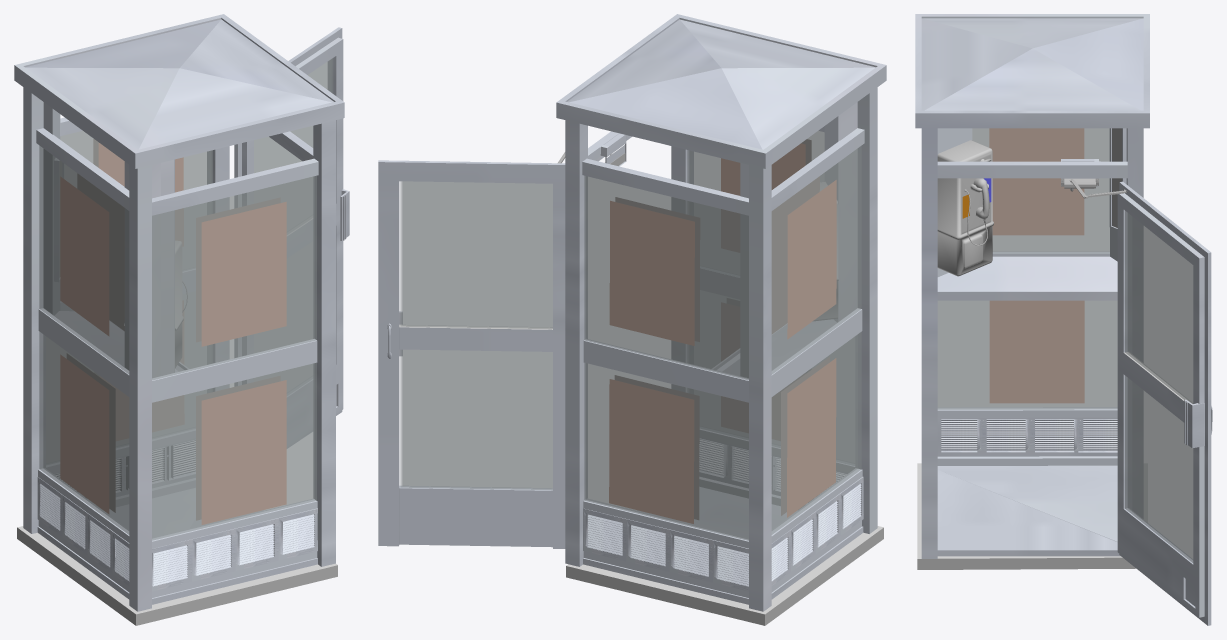
Rendered from Cabina.fbx.
3 renders of one model, left to right at view 1: azimuth 30°, elevation 25°; view 2: azimuth 150°, elevation 25°; view 3: azimuth 270°, elevation 25°, orthographic. The views are drawn at different scales.
Visible parts, largest first — view 1: _G-Object.021 (Loose Mesh), G-Object.007, G-Object.073, G-Object.074, _G-Object.015 (Loose Mesh), G-Object.002, G-Object.019, _G-Object.001 (Loose Mesh), _G-Object.077 (Loose Mesh), G-Object.080, G-Object.083, G-Object.081 (+19 smaller); view 2: _G-Object.021 (Loose Mesh), G-Object.007, G-Object.002, _G-Object.015 (Loose Mesh), G-Object.019, G-Object.074, G-Object.073, _G-Object.001 (Loose Mesh), G-Object.079, _G-Object.077 (Loose Mesh), G-Object.022, G-Object.083 (+12 smaller); view 3: _G-Object.021 (Loose Mesh), G-Object.002, _G-Object.015 (Loose Mesh), G-Object.007, G-Object.074, _G-Object.078 (Loose Mesh), G-Object.082, _G-Object.001 (Loose Mesh), G-Object.024, G-Object.069, G-Object.070, G-Object.035 (+6 smaller).
Part boxes in pixels (x1=…): _G-Object.021 (Loose Mesh): x1=14, y1=14, x2=344, y2=611; G-Object.007: x1=60, y1=139, x2=286, y2=524; G-Object.073: x1=152, y1=175, x2=316, y2=540; G-Object.074: x1=39, y1=145, x2=129, y2=534; _G-Object.015 (Loose Mesh): x1=234, y1=27, x2=343, y2=448; G-Object.002: x1=254, y1=58, x2=333, y2=393; G-Object.019: x1=46, y1=130, x2=212, y2=463; _G-Object.001 (Loose Mesh): x1=17, y1=526, x2=337, y2=625; _G-Object.077 (Loose Mesh): x1=43, y1=102, x2=160, y2=377; G-Object.080: x1=152, y1=339, x2=317, y2=402; G-Object.083: x1=124, y1=159, x2=174, y2=375; G-Object.081: x1=38, y1=308, x2=129, y2=396; _G-Object.021 (Loose Mesh): x1=556, y1=14, x2=886, y2=611; G-Object.007: x1=609, y1=139, x2=836, y2=523; G-Object.002: x1=400, y1=181, x2=552, y2=490; _G-Object.015 (Loose Mesh): x1=378, y1=160, x2=565, y2=548; G-Object.019: x1=584, y1=176, x2=748, y2=540; G-Object.074: x1=771, y1=146, x2=861, y2=534; G-Object.073: x1=687, y1=130, x2=854, y2=463; _G-Object.001 (Loose Mesh): x1=566, y1=526, x2=883, y2=625; G-Object.079: x1=583, y1=339, x2=748, y2=402; _G-Object.077 (Loose Mesh): x1=740, y1=102, x2=857, y2=377; G-Object.022: x1=582, y1=158, x2=748, y2=215; G-Object.083: x1=824, y1=109, x2=848, y2=322; _G-Object.021 (Loose Mesh): x1=915, y1=14, x2=1149, y2=558; G-Object.002: x1=1125, y1=211, x2=1193, y2=562; _G-Object.015 (Loose Mesh): x1=1117, y1=181, x2=1211, y2=625; G-Object.007: x1=989, y1=128, x2=1084, y2=403; G-Object.074: x1=937, y1=128, x2=1117, y2=409; _G-Object.078 (Loose Mesh): x1=937, y1=256, x2=1117, y2=300; G-Object.082: x1=937, y1=140, x2=993, y2=276; _G-Object.001 (Loose Mesh): x1=917, y1=463, x2=1147, y2=569; G-Object.024: x1=937, y1=159, x2=1127, y2=186; G-Object.069: x1=937, y1=407, x2=1117, y2=417; G-Object.070: x1=937, y1=456, x2=1117, y2=465; G-Object.035: x1=937, y1=417, x2=1117, y2=456.
Bounding box in the file's own units: 196 × 256 × 145.
